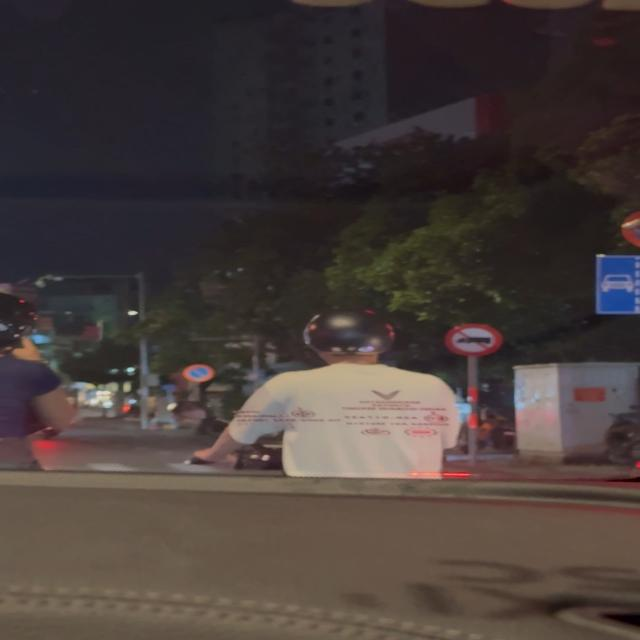Bien bao cam xe so-mi ro-mooc: (443, 322, 506, 358)
